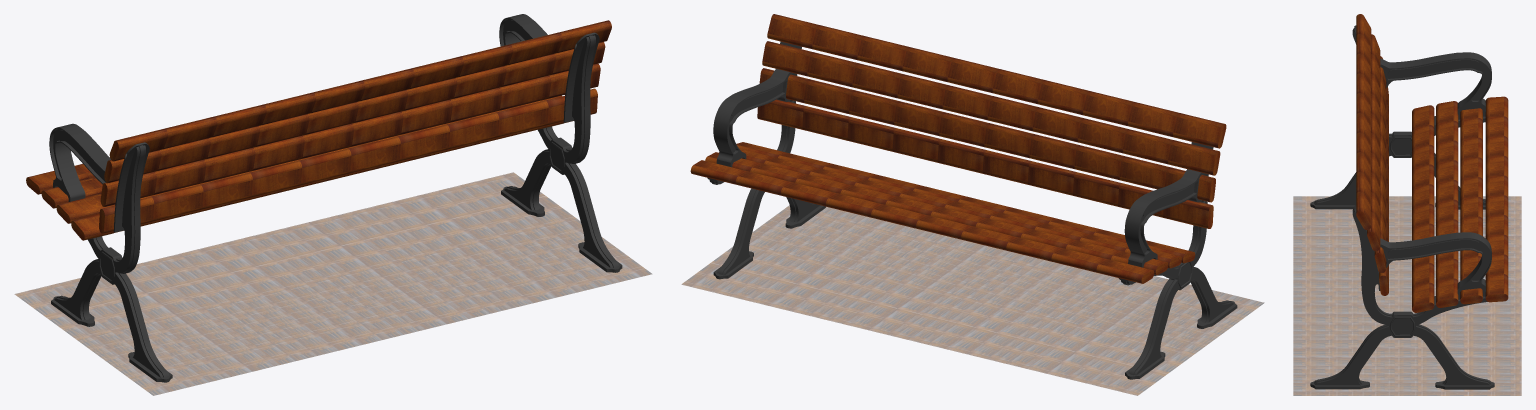
The picture shows the model from 3 angles, left to right: view 1: azimuth 30°, elevation 25°; view 2: azimuth 150°, elevation 25°; view 3: azimuth 270°, elevation 25°; orthographic projection. The views are drawn at different scales.
Visible parts, largest first — view 1: mesh59_mesh59-geometry, mesh1_mesh1-geometry, mesh22_mesh22-geometry, mesh42_mesh42-geometry, mesh4_mesh4-geometry, mesh10_mesh10-geometry, mesh25_mesh25-geometry, mesh19_mesh19-geometry, mesh7_mesh7-geometry, mesh13_mesh13-geometry, mesh16_mesh16-geometry; view 2: mesh59_mesh59-geometry, mesh4_mesh4-geometry, mesh10_mesh10-geometry, mesh22_mesh22-geometry, mesh1_mesh1-geometry, mesh16_mesh16-geometry, mesh42_mesh42-geometry, mesh25_mesh25-geometry, mesh13_mesh13-geometry, mesh7_mesh7-geometry, mesh19_mesh19-geometry; view 3: mesh59_mesh59-geometry, mesh25_mesh25-geometry, mesh16_mesh16-geometry, mesh42_mesh42-geometry, mesh19_mesh19-geometry, mesh7_mesh7-geometry, mesh13_mesh13-geometry, mesh4_mesh4-geometry, mesh10_mesh10-geometry, mesh22_mesh22-geometry, mesh1_mesh1-geometry.
Part boxes in pixels (bbox=[...]): mesh59_mesh59-geometry: bbox=[14, 172, 651, 395]; mesh1_mesh1-geometry: bbox=[99, 88, 597, 233]; mesh22_mesh22-geometry: bbox=[100, 63, 600, 206]; mesh42_mesh42-geometry: bbox=[49, 123, 172, 382]; mesh4_mesh4-geometry: bbox=[109, 20, 611, 161]; mesh10_mesh10-geometry: bbox=[104, 42, 605, 183]; mesh25_mesh25-geometry: bbox=[499, 14, 622, 272]; mesh19_mesh19-geometry: bbox=[71, 120, 573, 240]; mesh7_mesh7-geometry: bbox=[56, 95, 561, 223]; mesh13_mesh13-geometry: bbox=[41, 177, 102, 208]; mesh16_mesh16-geometry: bbox=[26, 164, 95, 194]; mesh59_mesh59-geometry: bbox=[681, 205, 1264, 395]; mesh4_mesh4-geometry: bbox=[767, 14, 1226, 148]; mesh10_mesh10-geometry: bbox=[762, 41, 1220, 175]; mesh22_mesh22-geometry: bbox=[759, 68, 1215, 202]; mesh1_mesh1-geometry: bbox=[757, 99, 1213, 228]; mesh16_mesh16-geometry: bbox=[690, 160, 1154, 283]; mesh42_mesh42-geometry: bbox=[1118, 142, 1237, 379]; mesh25_mesh25-geometry: bbox=[707, 41, 825, 279]; mesh13_mesh13-geometry: bbox=[705, 152, 1168, 275]; mesh7_mesh7-geometry: bbox=[719, 148, 1181, 268]; mesh19_mesh19-geometry: bbox=[736, 142, 1195, 263]; mesh59_mesh59-geometry: bbox=[1293, 196, 1521, 395]; mesh25_mesh25-geometry: bbox=[1310, 205, 1494, 389]; mesh16_mesh16-geometry: bbox=[1485, 96, 1508, 302]; mesh42_mesh42-geometry: bbox=[1310, 25, 1491, 209]; mesh19_mesh19-geometry: bbox=[1412, 105, 1434, 312]; mesh7_mesh7-geometry: bbox=[1436, 101, 1458, 307]; mesh13_mesh13-geometry: bbox=[1460, 108, 1482, 304]; mesh4_mesh4-geometry: bbox=[1356, 14, 1371, 229]; mesh10_mesh10-geometry: bbox=[1367, 34, 1380, 251]; mesh22_mesh22-geometry: bbox=[1374, 56, 1386, 272]; mesh1_mesh1-geometry: bbox=[1379, 87, 1388, 295].
Size of the model in its own units: 0.84 by 0.3604 by 0.4055.
